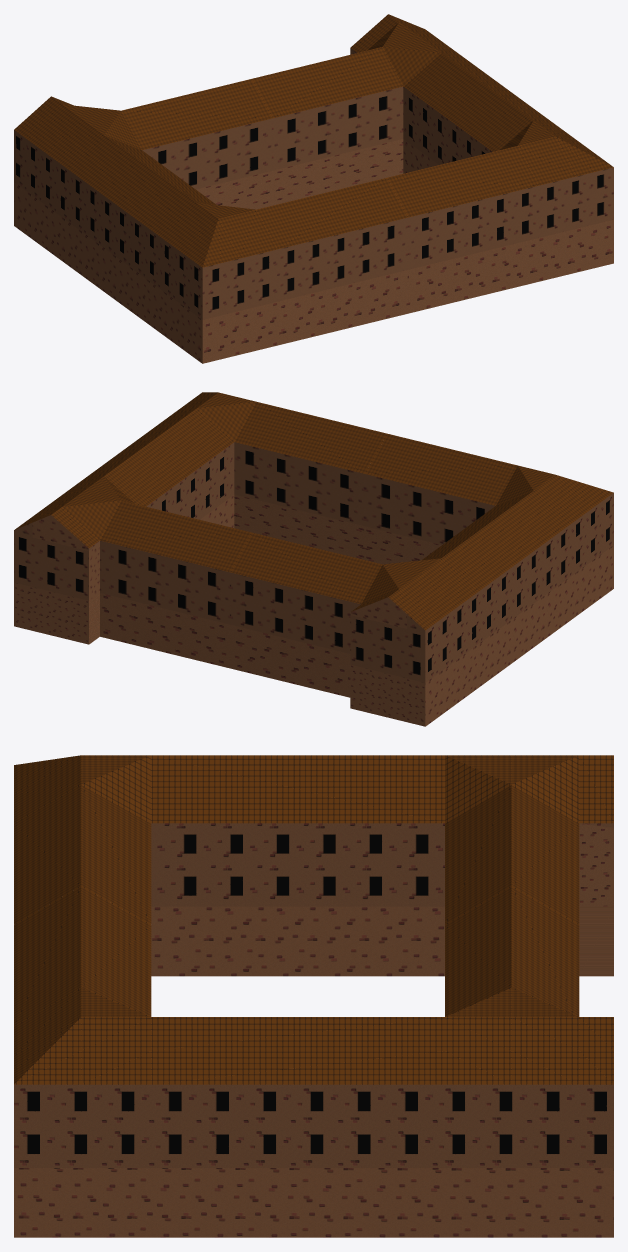
File: maddox_origin.fbx
3 views of the same model, one above another, from view 1: azimuth 30°, elevation 25°; view 2: azimuth 150°, elevation 25°; view 3: azimuth 270°, elevation 25° (orthographic). The views are drawn at different scales.
Parts seen in each view (by area): view 1: Maddox; view 2: Maddox; view 3: Maddox.
Part boxes in pixels (x1,y1,x2,y2): Maddox: (14,14,613,363); Maddox: (14,392,613,726); Maddox: (14,755,613,1237).
Bounding box in the file's own units: 2128 × 595 × 1689.
Materials: 4 (3 with a texture image).
